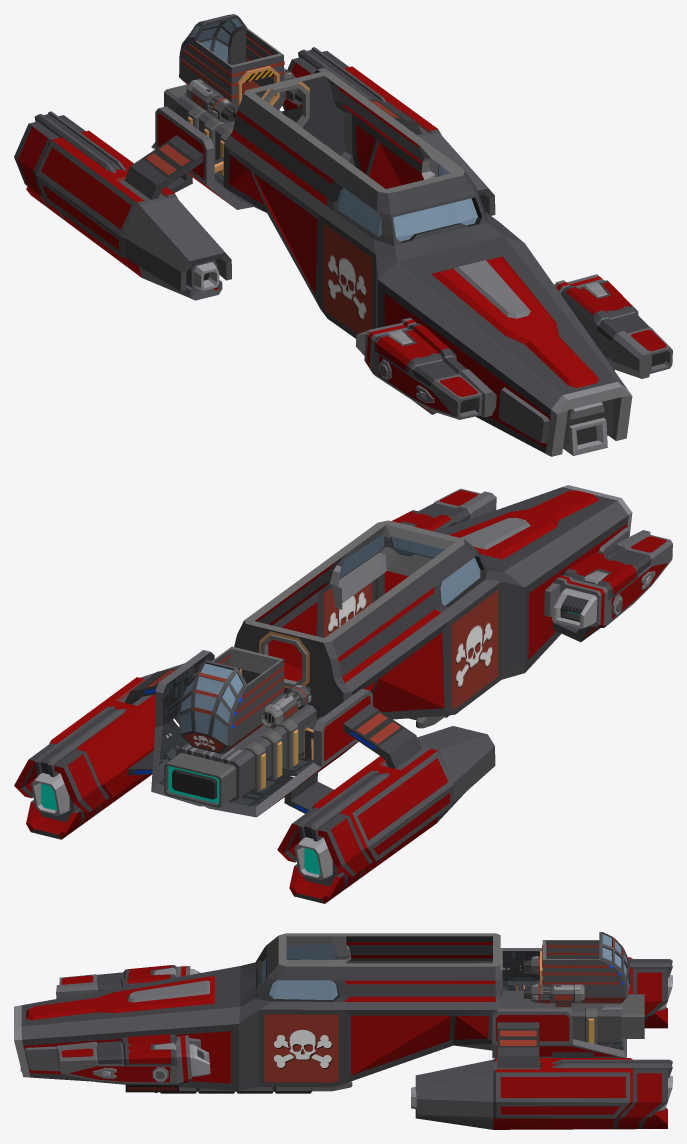
Rendered from Pirat_Spaceship.fbx.
The picture shows the model from 3 angles, top to bottom: view 1: azimuth 30°, elevation 25°; view 2: azimuth 150°, elevation 25°; view 3: azimuth 270°, elevation 25°; orthographic projection. The views are drawn at different scales.
Visible parts, largest first — view 1: Pirat_spaceship, Pirate_shuttle, Pirat_spaceship_glass, Pirat_shuttle_glass; view 2: Pirat_spaceship, Pirate_shuttle, Pirat_shuttle_glass, Pirat_spaceship_glass; view 3: Pirat_spaceship, Pirate_shuttle, Pirat_spaceship_glass, Pirat_shuttle_glass.
Part boxes in pixels (x1,y1,x2,y2): Pirat_spaceship: [14, 47, 672, 456]; Pirate_shuttle: [179, 14, 302, 122]; Pirat_spaceship_glass: [337, 164, 477, 241]; Pirat_shuttle_glass: [191, 18, 241, 62]; Pirat_spaceship: [14, 485, 672, 903]; Pirate_shuttle: [179, 646, 311, 753]; Pirat_shuttle_glass: [181, 663, 242, 743]; Pirat_spaceship_glass: [339, 535, 480, 605]; Pirat_spaceship: [14, 933, 672, 1129]; Pirate_shuttle: [523, 932, 630, 1006]; Pirat_spaceship_glass: [262, 944, 337, 999]; Pirat_shuttle_glass: [602, 934, 628, 988].
Size of the model in its own units: 2928 by 1507 by 6418.
1 material, 1 textured.
